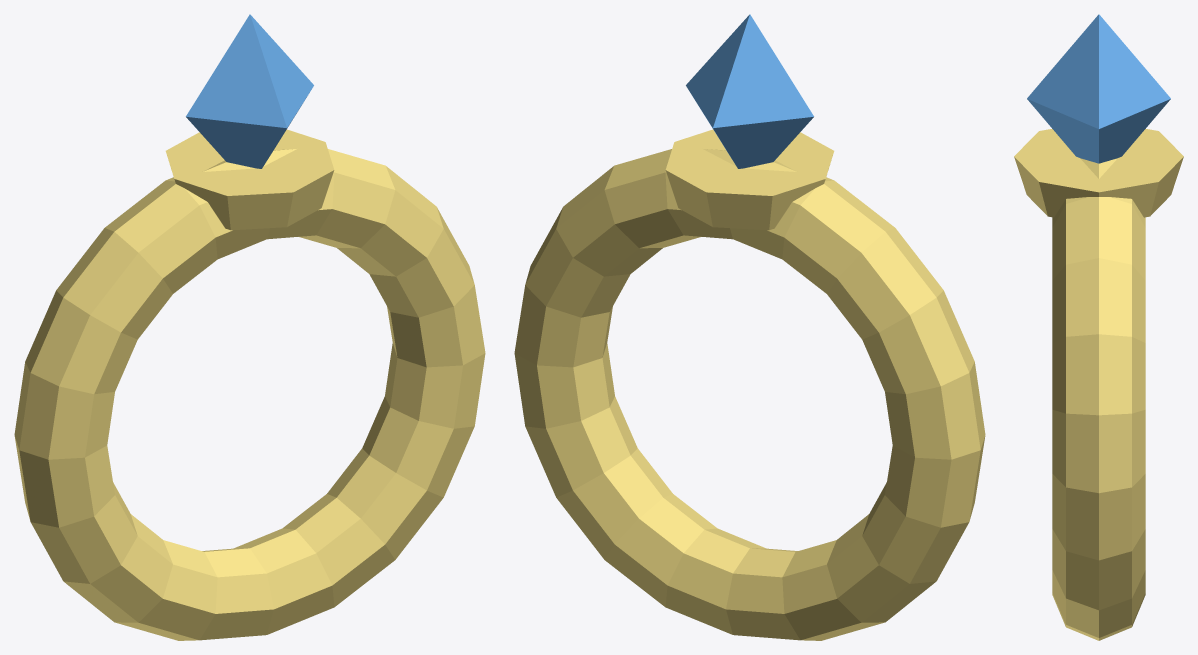
Rendered from ring-gold.glb.
The picture shows the model from 3 angles, left to right: view 1: azimuth 30°, elevation 25°; view 2: azimuth 150°, elevation 25°; view 3: azimuth 270°, elevation 25°; orthographic projection. The views are drawn at different scales.
Size of the model in its own units: 1.22 by 1.57 by 0.4.
